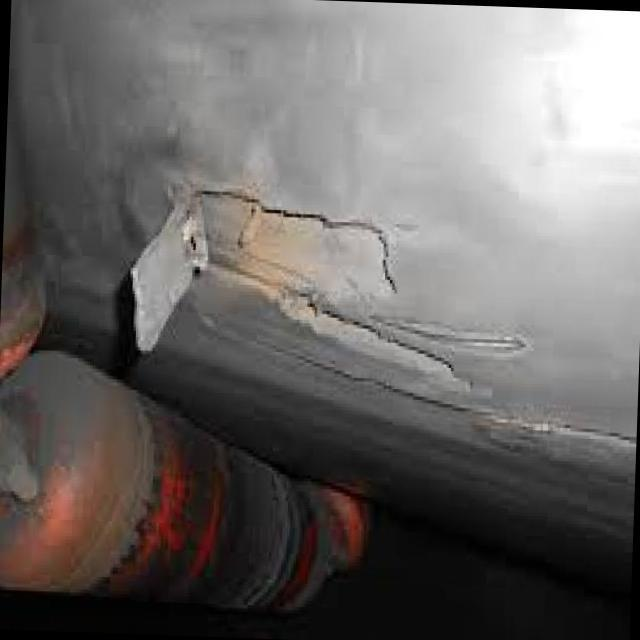Tear: (120, 180, 482, 422)
